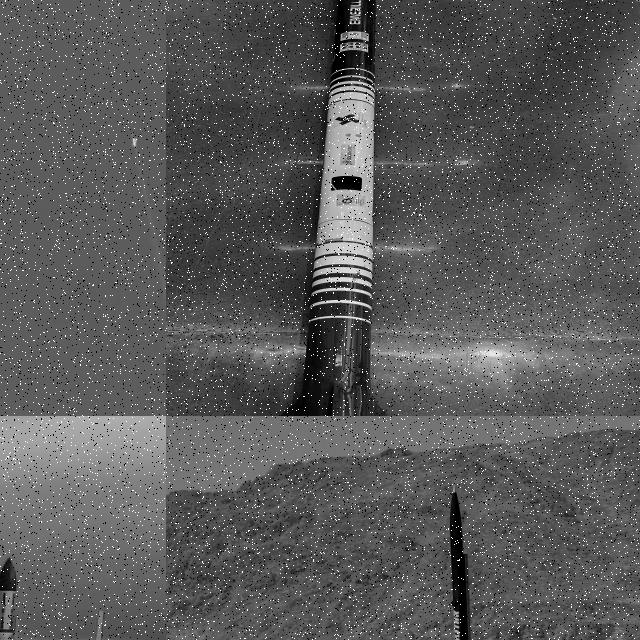Rocket: (280, 0, 390, 416), (444, 484, 486, 640), (130, 130, 138, 147)
